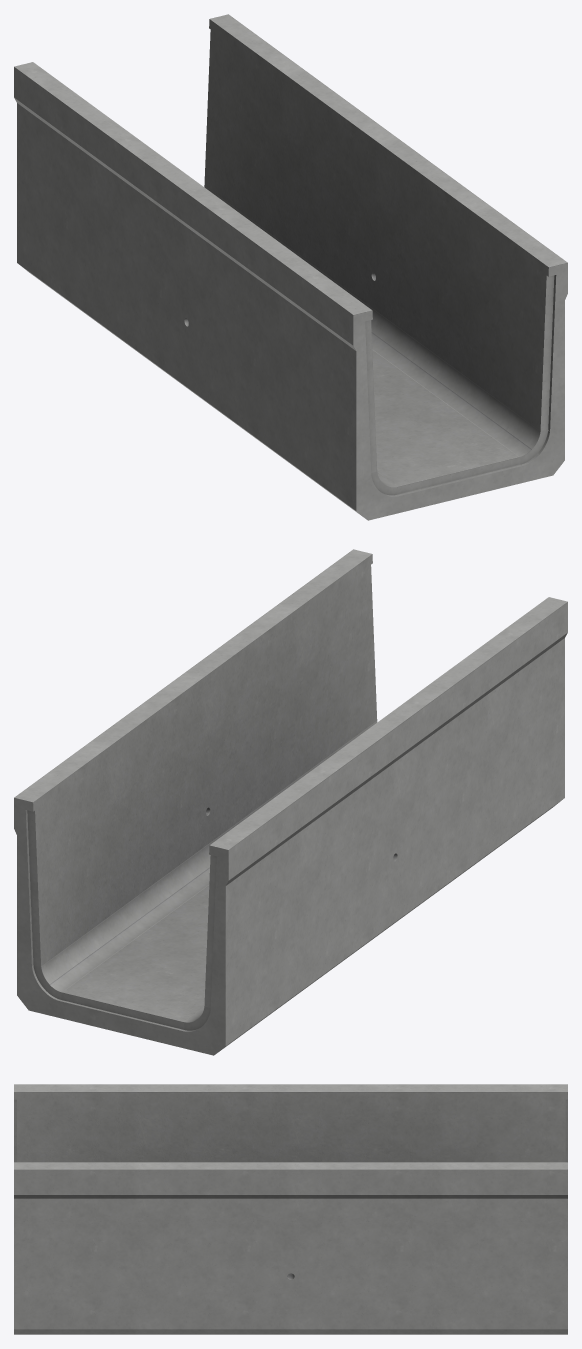
Rendered from T6_Only_Ushaped_002.glb.
The picture shows the model from 3 angles, top to bottom: view 1: azimuth 30°, elevation 25°; view 2: azimuth 150°, elevation 25°; view 3: azimuth 270°, elevation 25°; orthographic projection. The views are drawn at different scales.
Visible parts, largest first — view 1: Line001; view 2: Line001; view 3: Line001.
Boxes of the visible parts, box(x1,y1,x2,y2) form: Line001: box(14, 14, 567, 520); Line001: box(14, 549, 567, 1055); Line001: box(14, 1084, 567, 1334).
Size of the model in its own units: 0.8899 by 0.829 by 2.44.
Materials: 1 (1 with a texture image).
